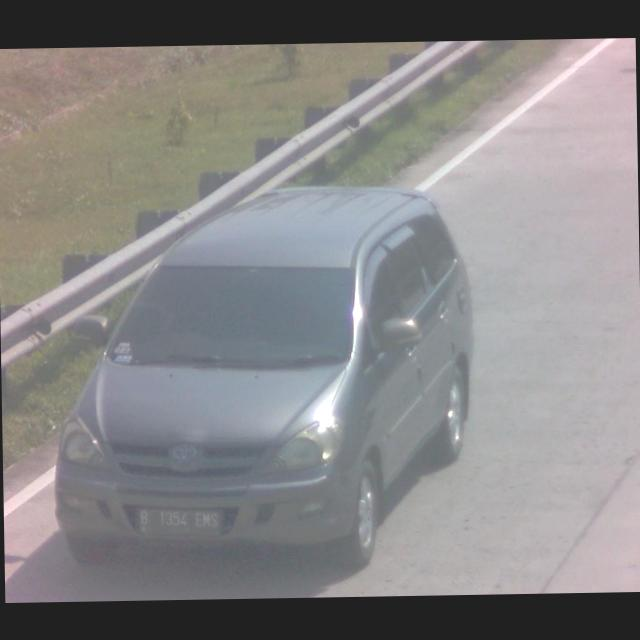plate: (136, 506, 220, 539)
